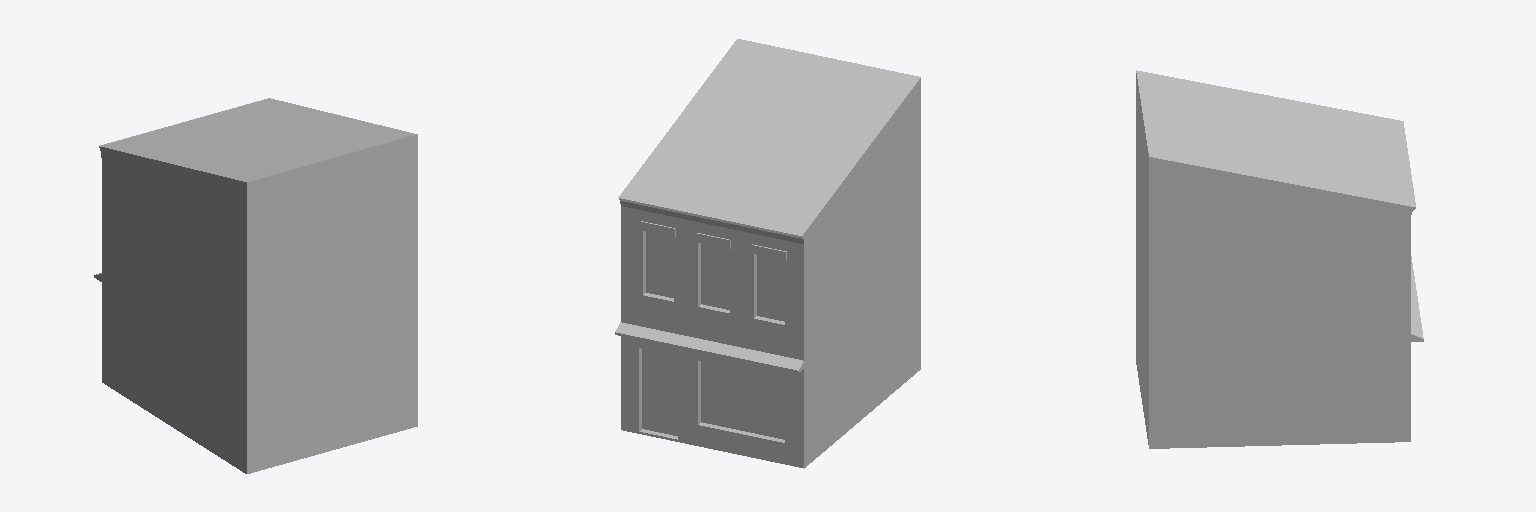
Rendered from house12.obj.
3 views of the same model, side by side, from view 1: azimuth 30°, elevation 25°; view 2: azimuth 150°, elevation 25°; view 3: azimuth 270°, elevation 25° (orthographic).
Parts seen in each view (by area): view 1: pasted__pasted__houseShop_null_ pasted__group8 group10; view 2: pasted__pasted__houseShop_null_ pasted__group8 group10; view 3: pasted__pasted__houseShop_null_ pasted__group8 group10.
Boxes of the visible parts, x1=… form: pasted__pasted__houseShop_null_ pasted__group8 group10: x1=94, y1=98, x2=417, y2=473; pasted__pasted__houseShop_null_ pasted__group8 group10: x1=615, y1=39, x2=920, y2=468; pasted__pasted__houseShop_null_ pasted__group8 group10: x1=1136, y1=70, x2=1423, y2=448.
Size of the model in its own units: 39.96 by 58.02 by 51.76.